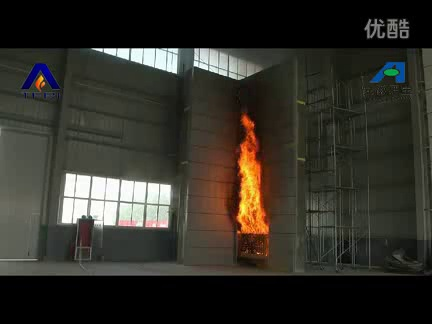fire: (233, 113, 270, 234)
